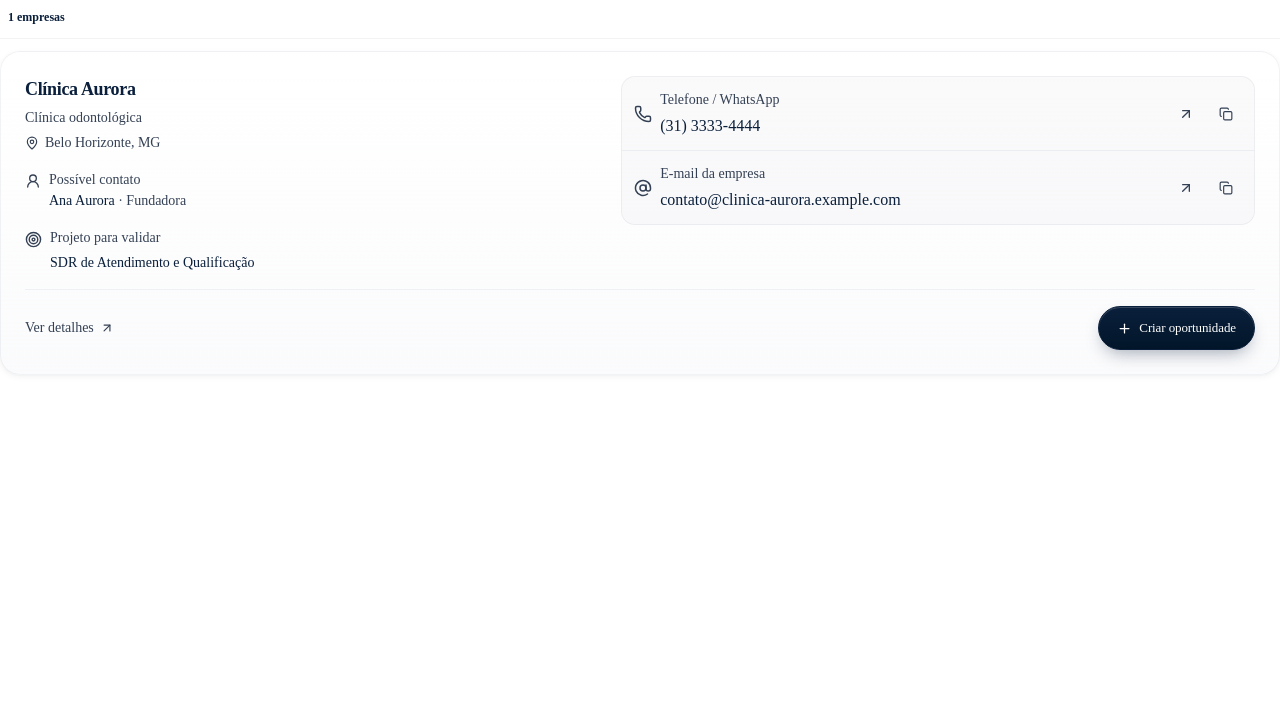
Test: resultados da prospecção › mostra os contatos no card e abre os detalhes sem etapas de acompanhamento
Expected: the link with aria-label "Telefone / WhatsApp: (31) 3333-4444" is shown, [628,83,1200,144]
Expected: the link with aria-label "E-mail da empresa: contato@clinica-aurora.example.com" is shown, [628,157,1200,218]
Click the button "Ver detalhes".
click(69, 328)  # box [17,306,122,350]
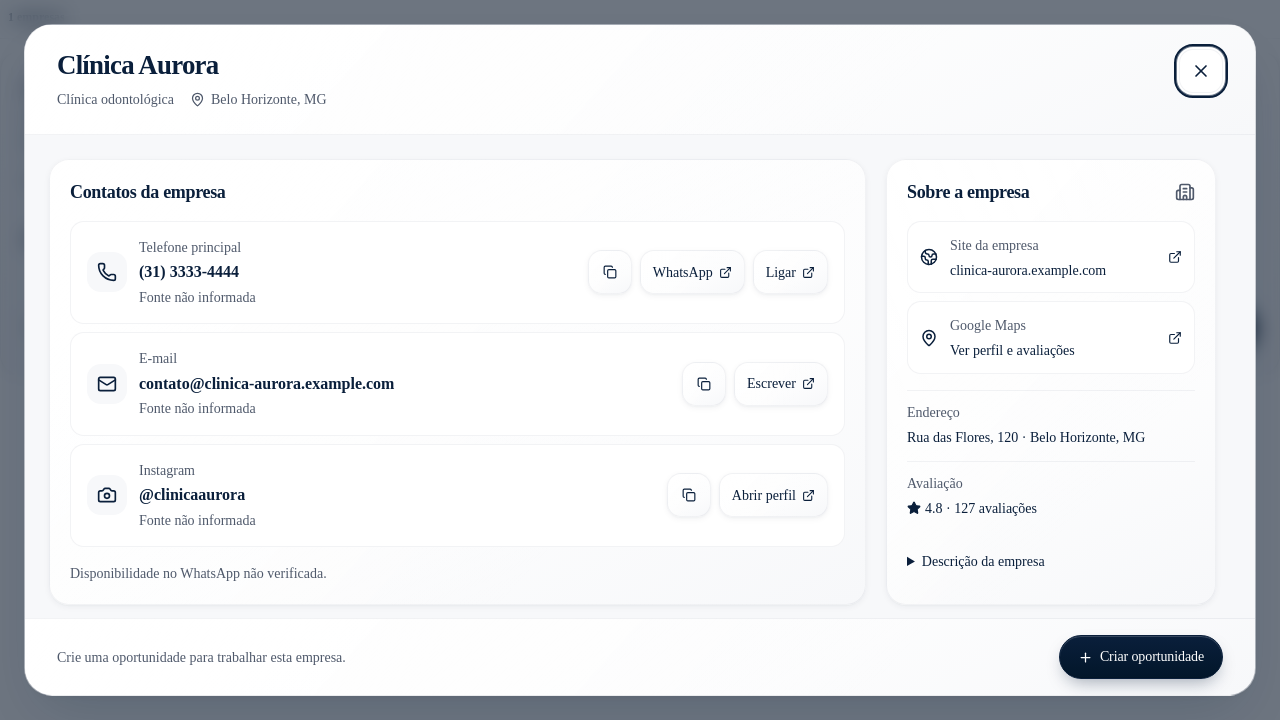
Expected: the dialog "Clínica Aurora" is shown
Expected: the link "WhatsApp" is shown, [640,250,745,294]
Expected: the link "Escrever" is shown, [734,362,828,406]
Press Escape
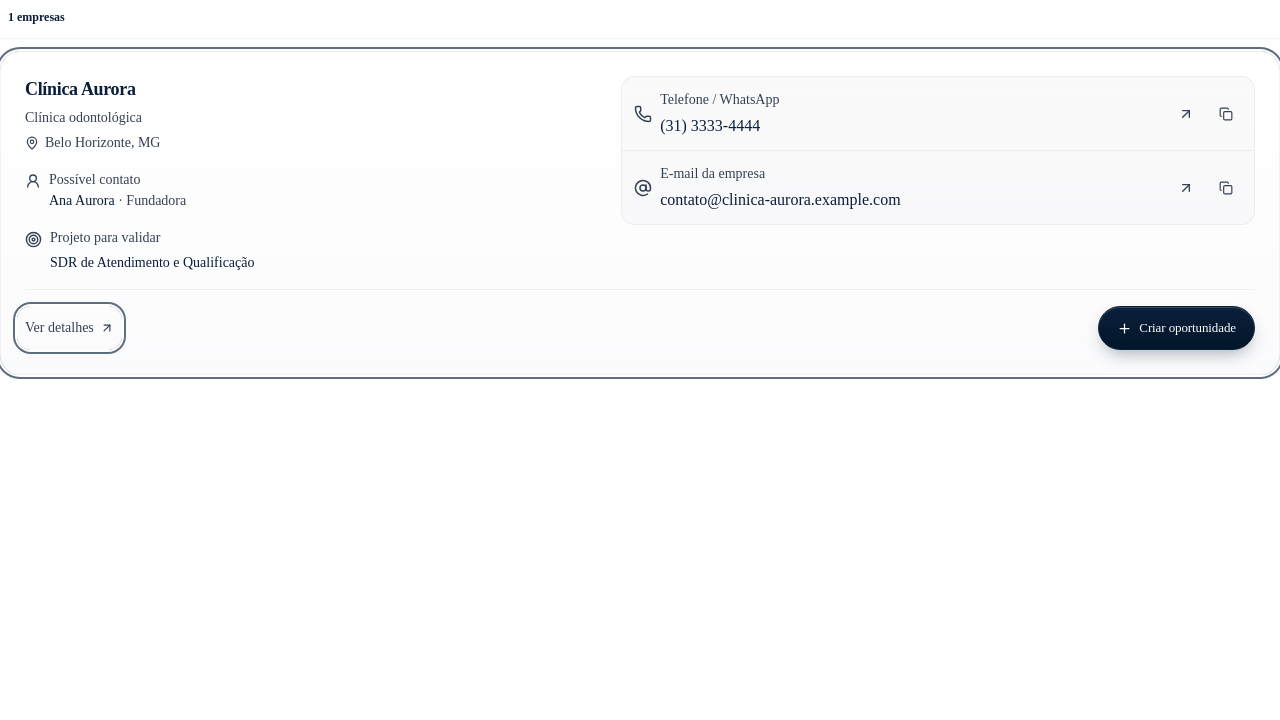
Expected: the dialog is gone
